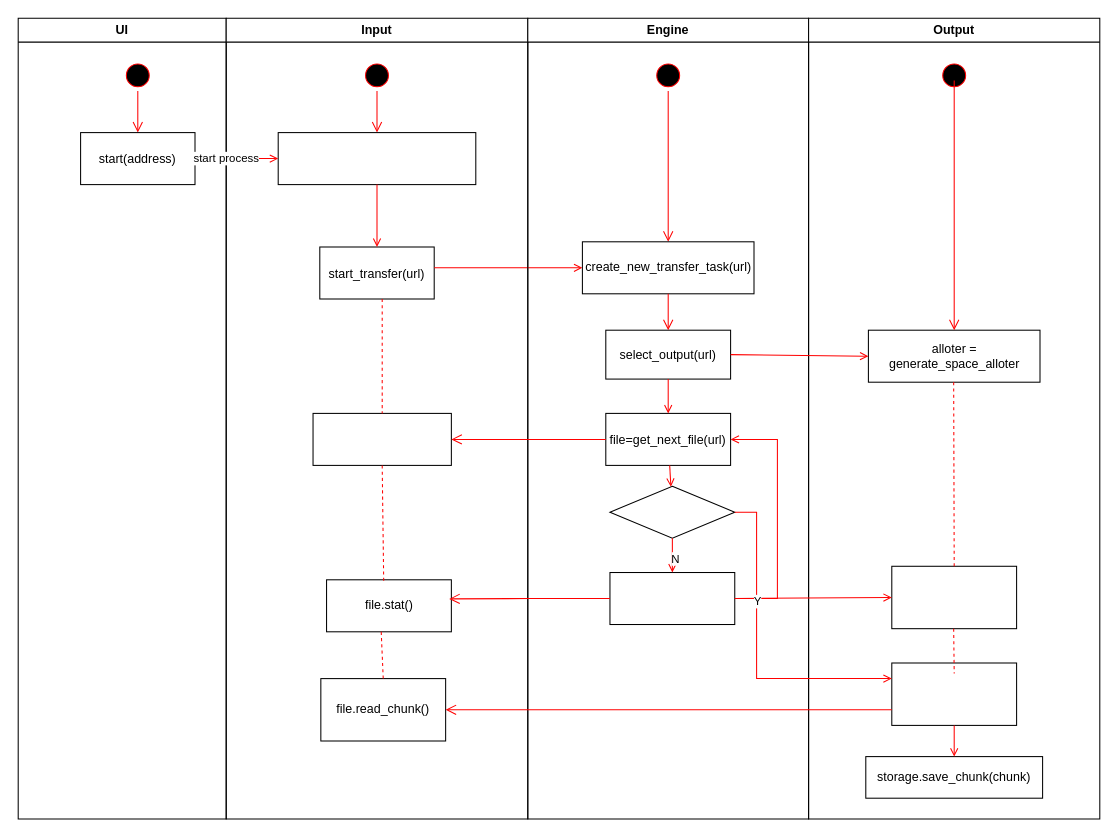
This 1118x837 diagram has some shape labels left out. The centre of each missing label's shape, as x and y in pixels:
"alloter.alloc()" goes at [954,597].
"chunk = alloter.read_chunk()" goes at [954,693].
"file.is_none" goes at [672,511].
"it=it || iterator(address) file=it.next()" goes at [381,438].
"stat=file.stat()" goes at [672,598].
"url=start_reader_service(address)" goes at [376,158].
